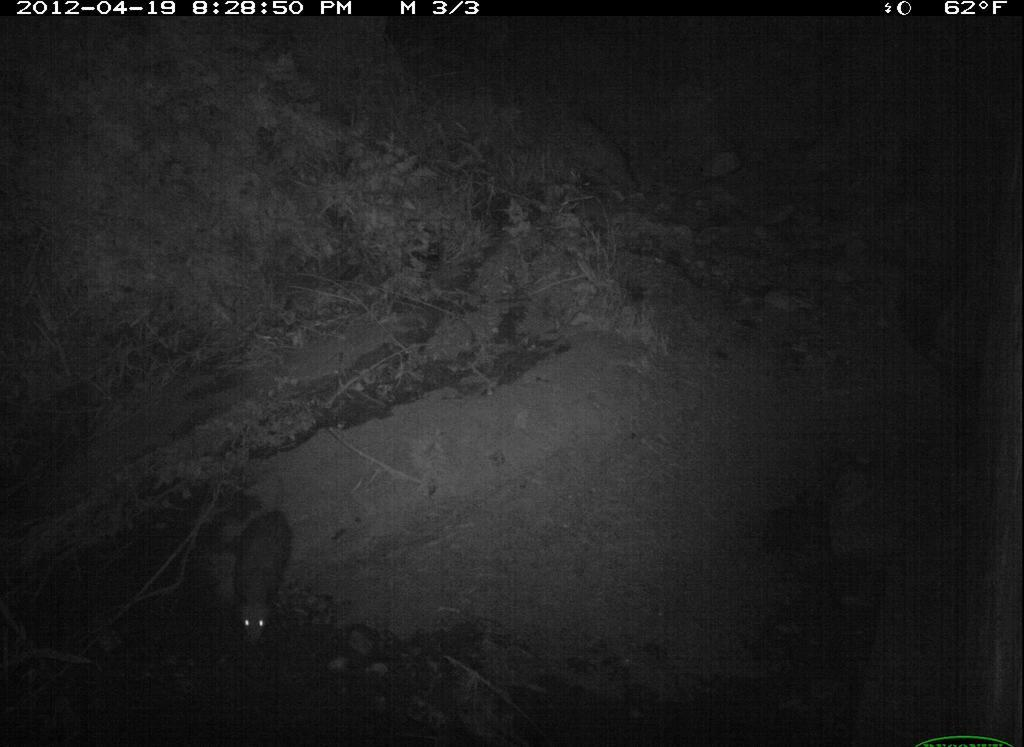opossum: (207, 462, 350, 719)
